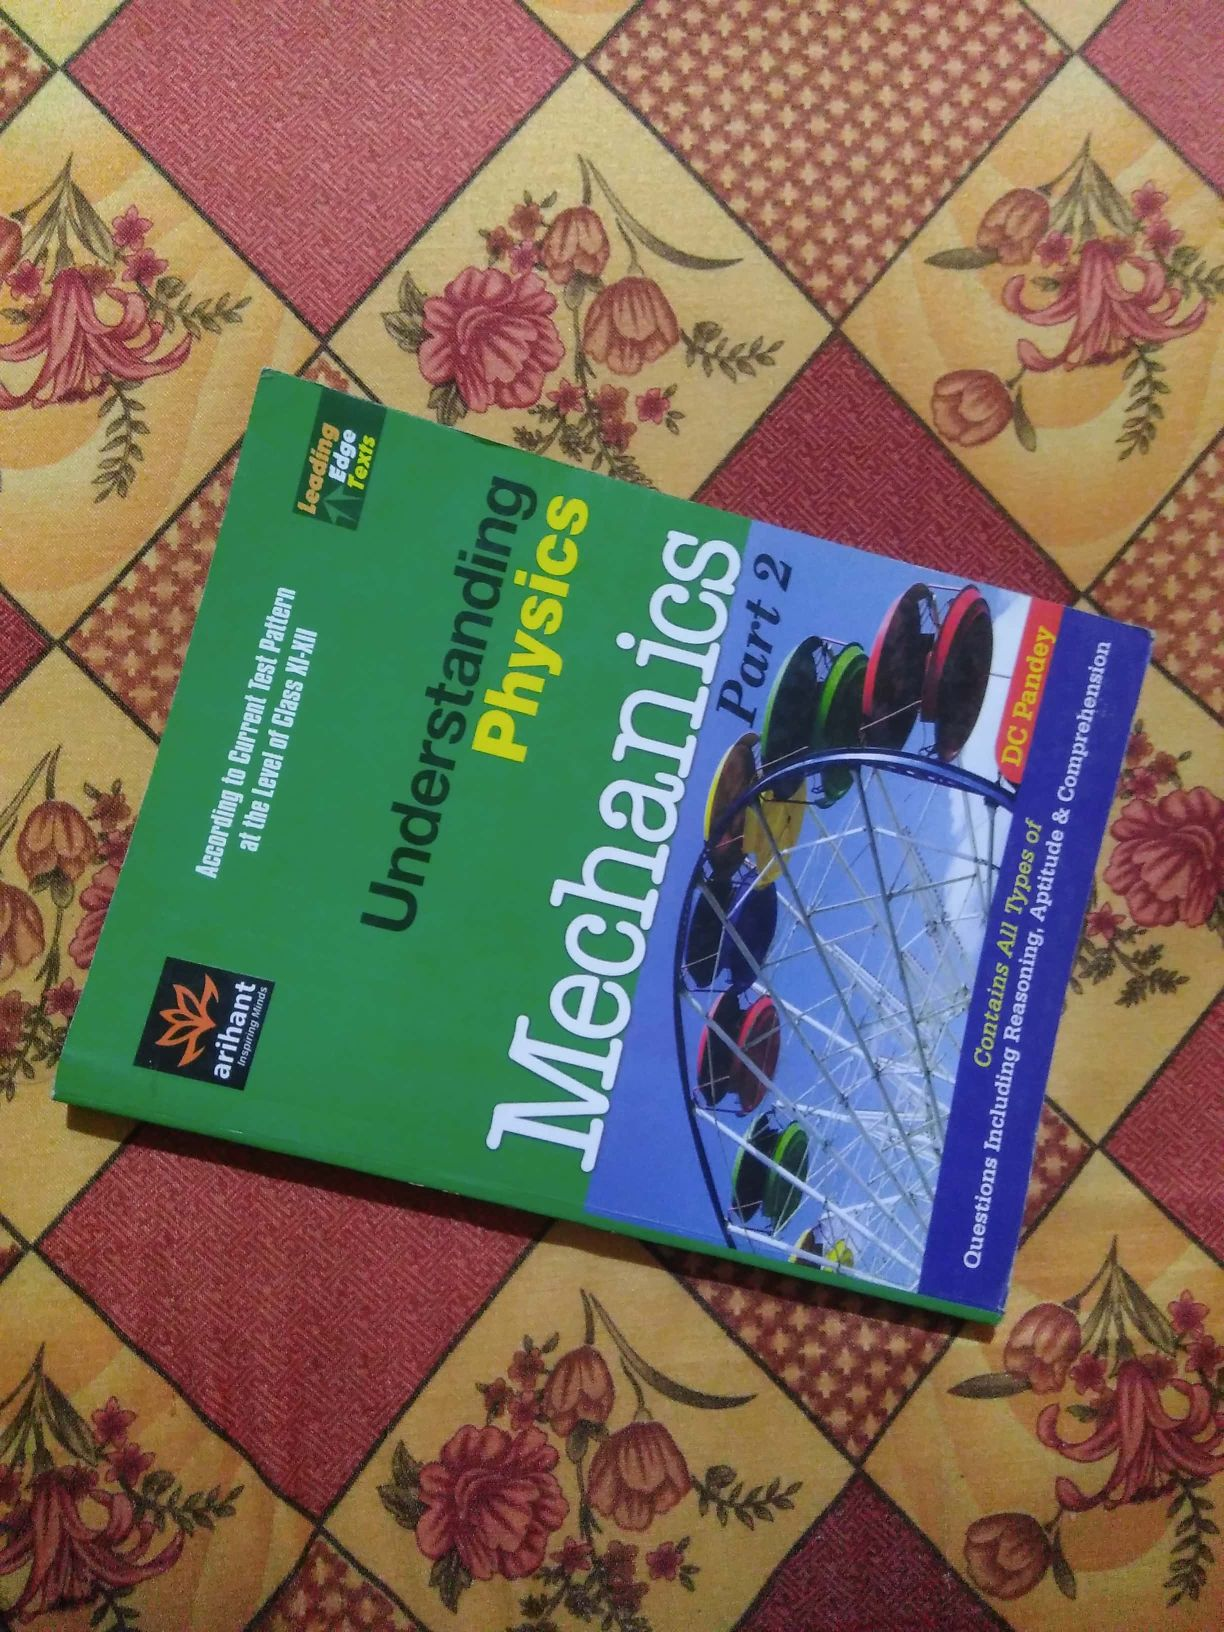mechanics: (98, 370, 1148, 1399)
